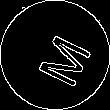M_NW: (22, 23, 88, 87)
